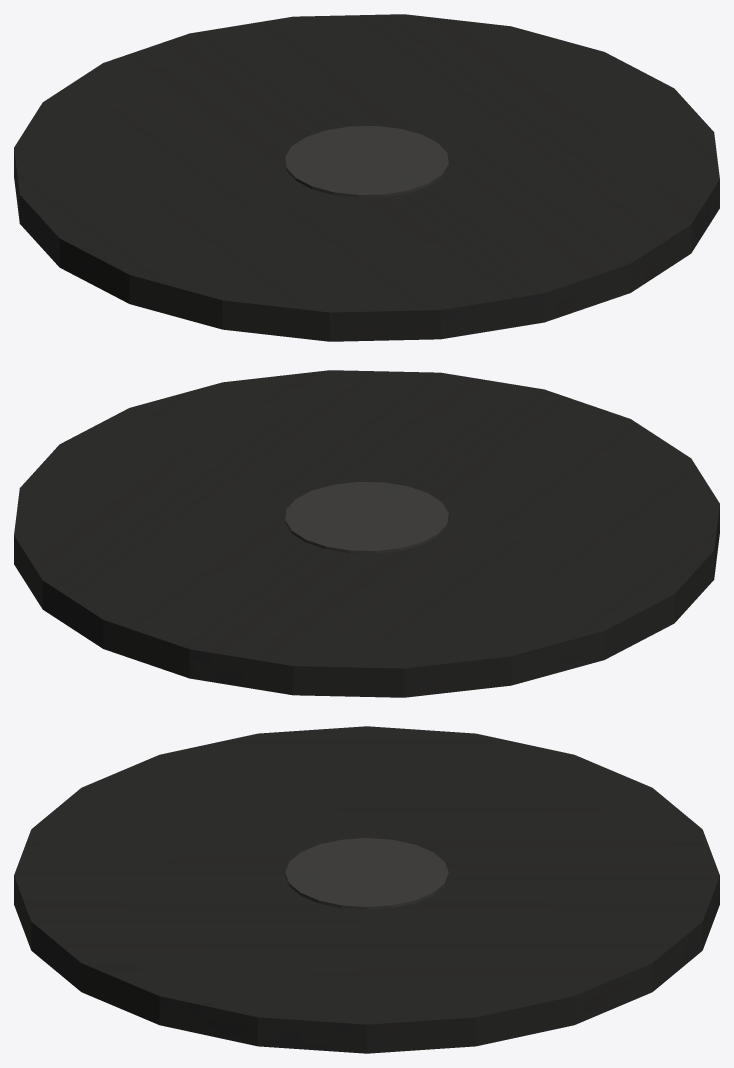
The model's file is road_manhole_decal.glb.
3 renders of one model, top to bottom at view 1: azimuth 30°, elevation 25°; view 2: azimuth 150°, elevation 25°; view 3: azimuth 270°, elevation 25°, orthographic.
Parts seen in each view (by area): view 1: road_manhole_decal_field, road_manhole_decal_hub; view 2: road_manhole_decal_field, road_manhole_decal_hub; view 3: road_manhole_decal_field, road_manhole_decal_hub.
Part boxes in pixels (x1,y1,x2,y2): road_manhole_decal_field: (14, 14, 719, 341); road_manhole_decal_hub: (285, 126, 448, 197); road_manhole_decal_field: (14, 370, 719, 697); road_manhole_decal_hub: (285, 482, 448, 553); road_manhole_decal_field: (14, 726, 719, 1053); road_manhole_decal_hub: (285, 838, 448, 909).
Size of the model in its own units: 0.88 by 0.056 by 0.88.
Materials: 2 (2 with a texture image).
